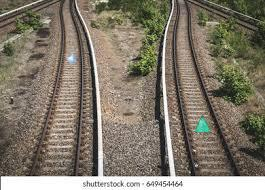Dust_screen: (197, 111, 210, 137)
Plastic: (65, 50, 77, 63)
